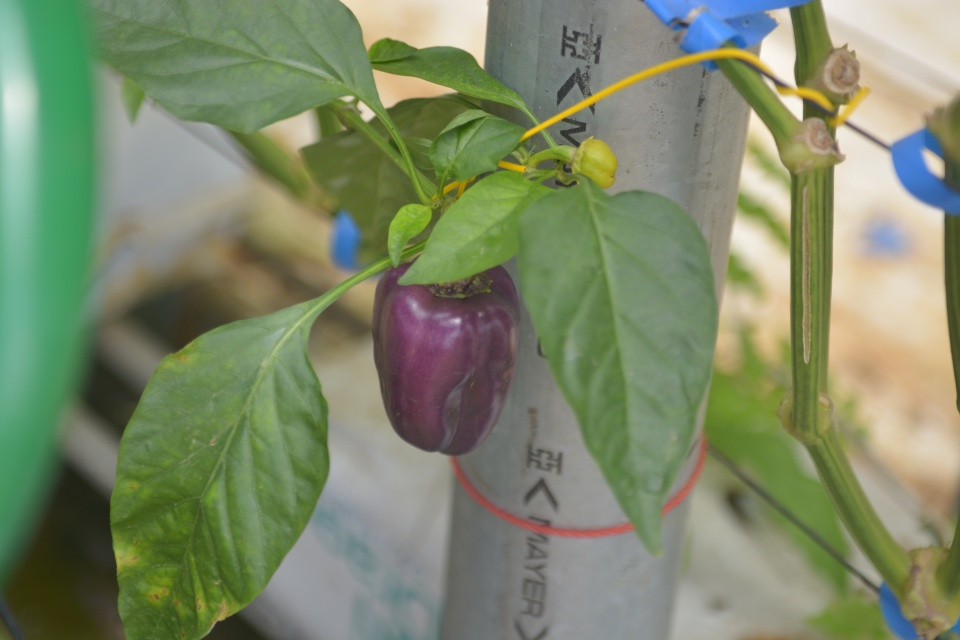fruit: (369, 249, 522, 457)
immature: (569, 132, 618, 192)
pedicle: (421, 269, 492, 298)
